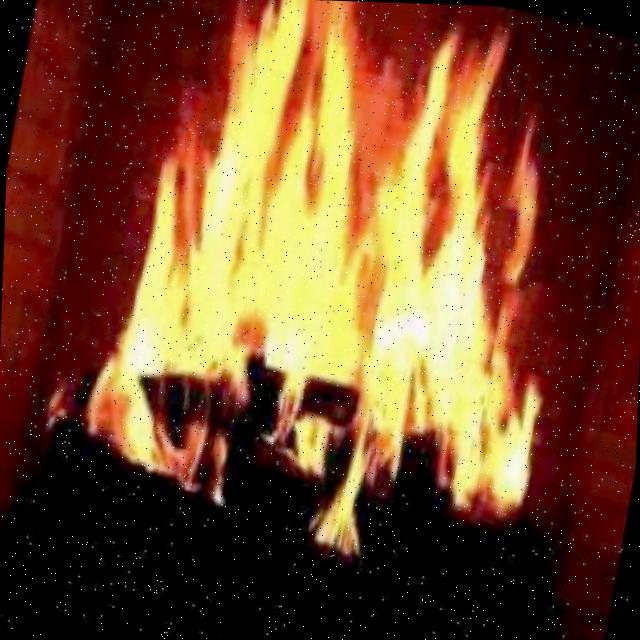fire: (116, 0, 591, 510)
